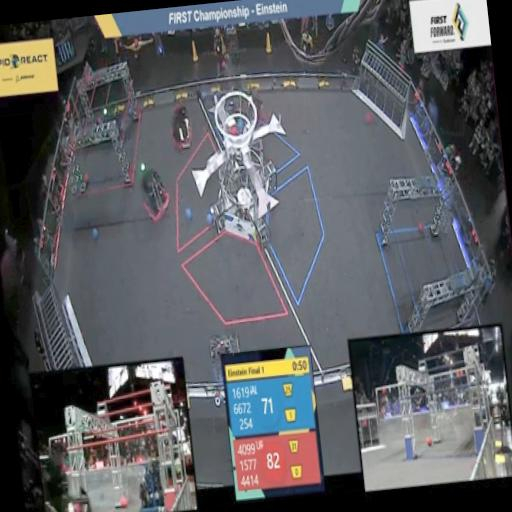robot: (133, 158, 174, 230), (204, 324, 248, 390), (228, 76, 265, 136), (90, 100, 134, 146), (164, 94, 194, 152)
